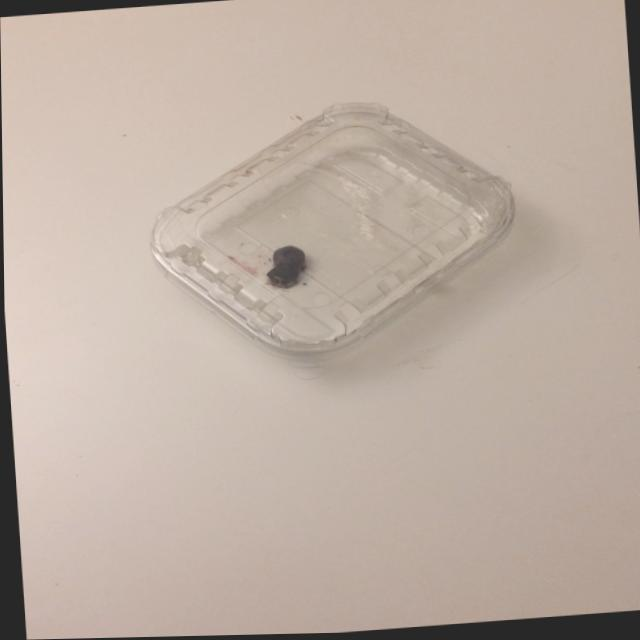Plastic: (121, 77, 544, 397)
